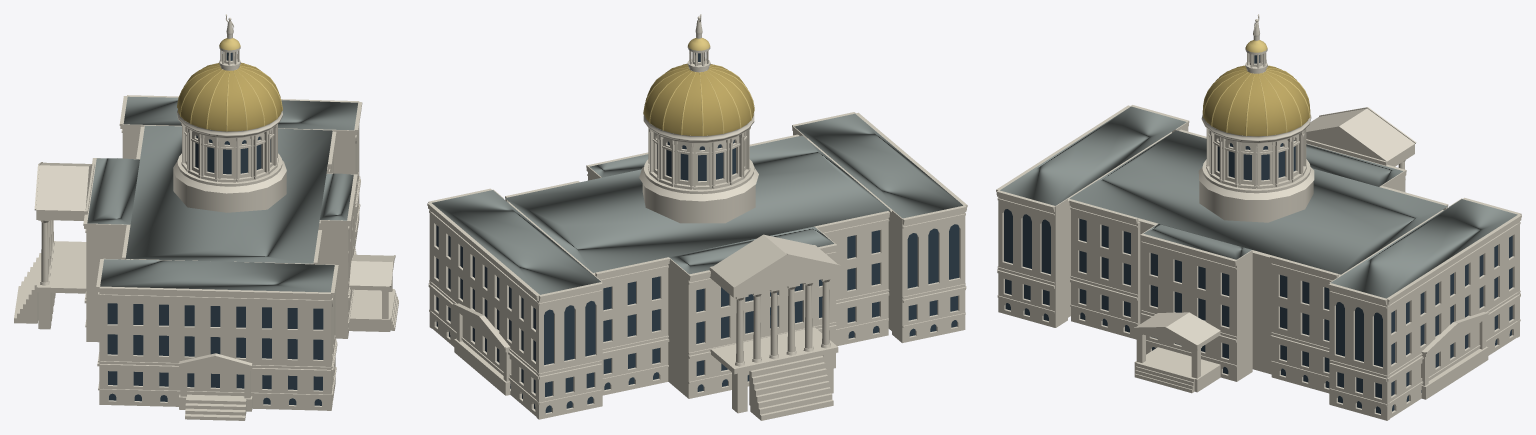
Rendered from georgia-state-capitol-far.glb.
3 renders of one model, left to right at view 1: azimuth 30°, elevation 25°; view 2: azimuth 150°, elevation 25°; view 3: azimuth 270°, elevation 25°, orthographic. The views are drawn at different scales.
Parts seen in each view (by area): view 1: georgia-state-capitol-0-stone, georgia-state-capitol-0-roof, georgia-state-capitol-0-light, georgia-state-capitol-0-gold, georgia-state-capitol-0-lamp; view 2: georgia-state-capitol-0-stone, georgia-state-capitol-0-roof, georgia-state-capitol-0-light, georgia-state-capitol-0-gold, georgia-state-capitol-0-lamp; view 3: georgia-state-capitol-0-stone, georgia-state-capitol-0-roof, georgia-state-capitol-0-light, georgia-state-capitol-0-gold, georgia-state-capitol-0-lamp.
Boxes of the visible parts, <box> form: georgia-state-capitol-0-stone: <box>14,14,398,420</box>; georgia-state-capitol-0-roof: <box>87,96,357,292</box>; georgia-state-capitol-0-light: <box>107,52,323,405</box>; georgia-state-capitol-0-gold: <box>178,63,281,131</box>; georgia-state-capitol-0-lamp: <box>177,38,282,131</box>; georgia-state-capitol-0-stone: <box>427,14,967,420</box>; georgia-state-capitol-0-roof: <box>432,113,962,294</box>; georgia-state-capitol-0-light: <box>436,53,959,412</box>; georgia-state-capitol-0-gold: <box>644,64,753,135</box>; georgia-state-capitol-0-lamp: <box>643,38,754,136</box>; georgia-state-capitol-0-stone: <box>996,14,1521,420</box>; georgia-state-capitol-0-roof: <box>1000,106,1517,298</box>; georgia-state-capitol-0-light: <box>1004,55,1512,413</box>; georgia-state-capitol-0-gold: <box>1202,66,1310,136</box>; georgia-state-capitol-0-lamp: <box>1203,40,1310,136</box>.
Bounding box in the file's own units: 98.31 × 72.34 × 112.
